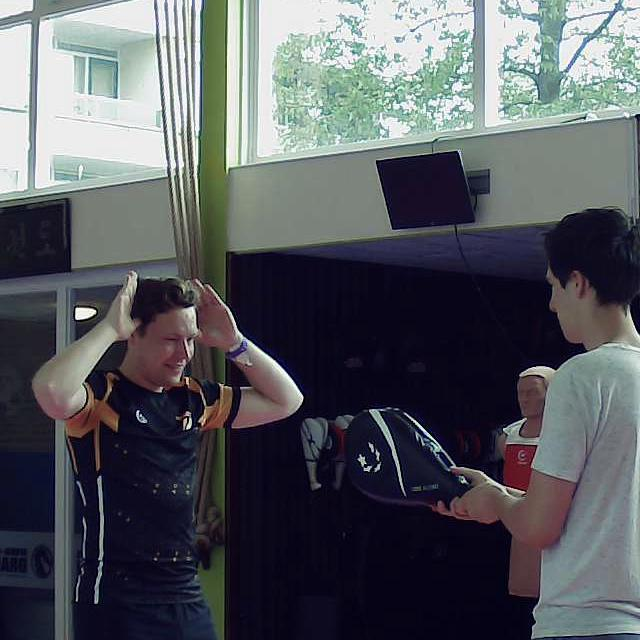paddle: (341, 406, 473, 513)
